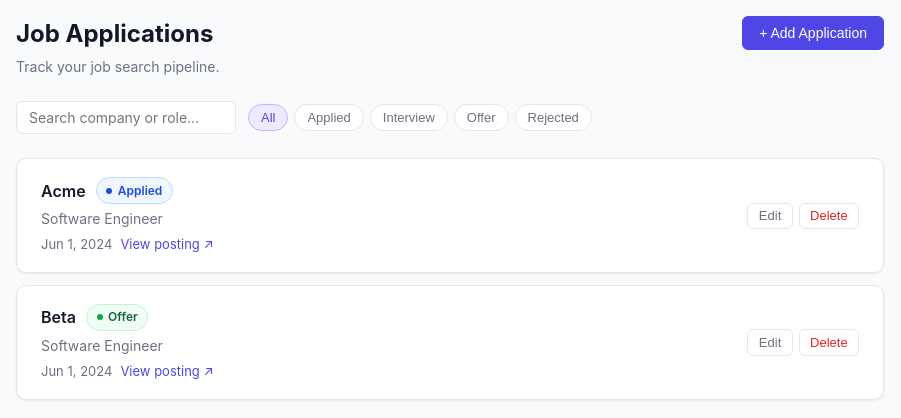
Test: ApplicationListView › filters by status button
Click the button with class "filter-btn" showing "Offer" at x=481, y=118, box [454,104,509,131]
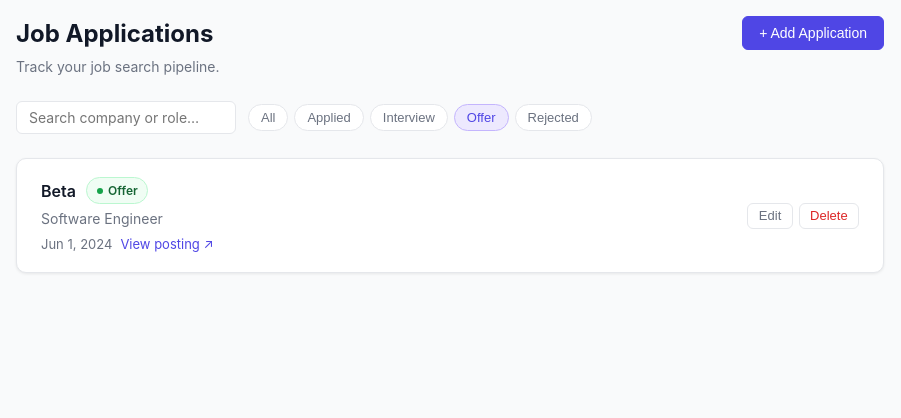
Expected: the text "Beta" is shown, [41,179,76,203]
Expected: the text "Acme" is gone
